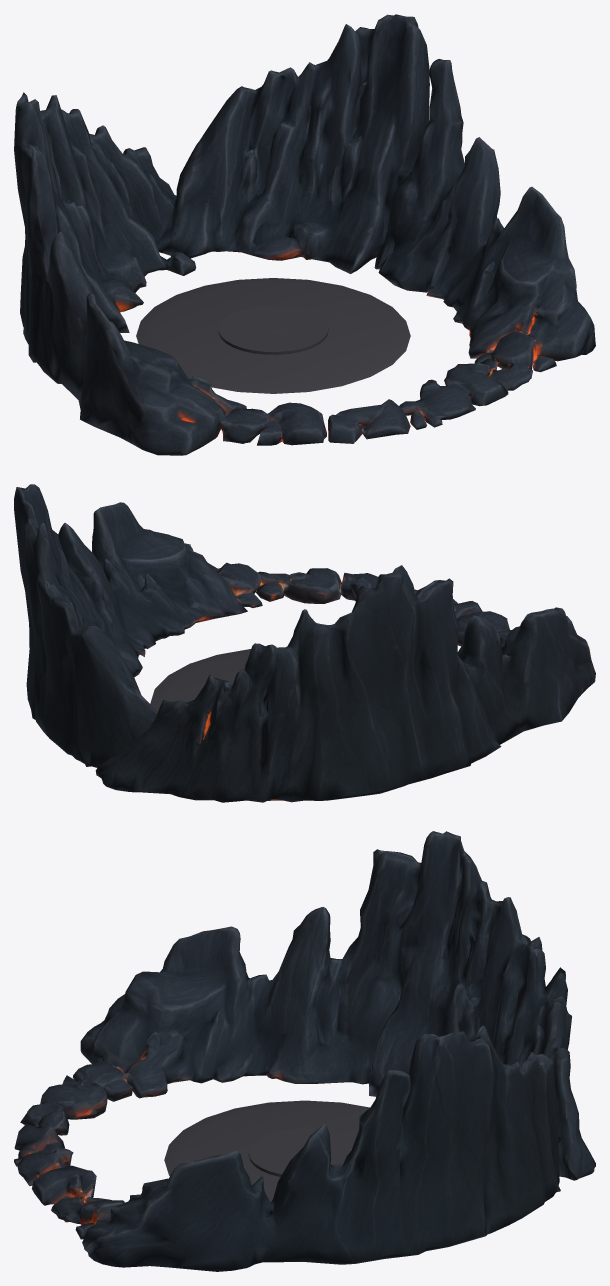
The model's file is cinder_jackal_ai.glb.
3 renders of one model, top to bottom at view 1: azimuth 30°, elevation 25°; view 2: azimuth 150°, elevation 25°; view 3: azimuth 270°, elevation 25°, orthographic. The views are drawn at different scales.
Parts seen in each view (by area): view 1: Wall, Floor; view 2: Wall, Floor; view 3: Wall, Floor.
Boxes of the visible parts, box(x1,y1,x2,y2) form: Wall: box(14, 14, 595, 455); Floor: box(136, 278, 410, 393); Wall: box(14, 484, 595, 802); Floor: box(150, 647, 284, 711); Wall: box(14, 831, 595, 1271); Floor: box(164, 1100, 369, 1201).
Size of the model in its own units: 60.17 by 27.94 by 61.94.
Materials: 2 (2 with a texture image).
